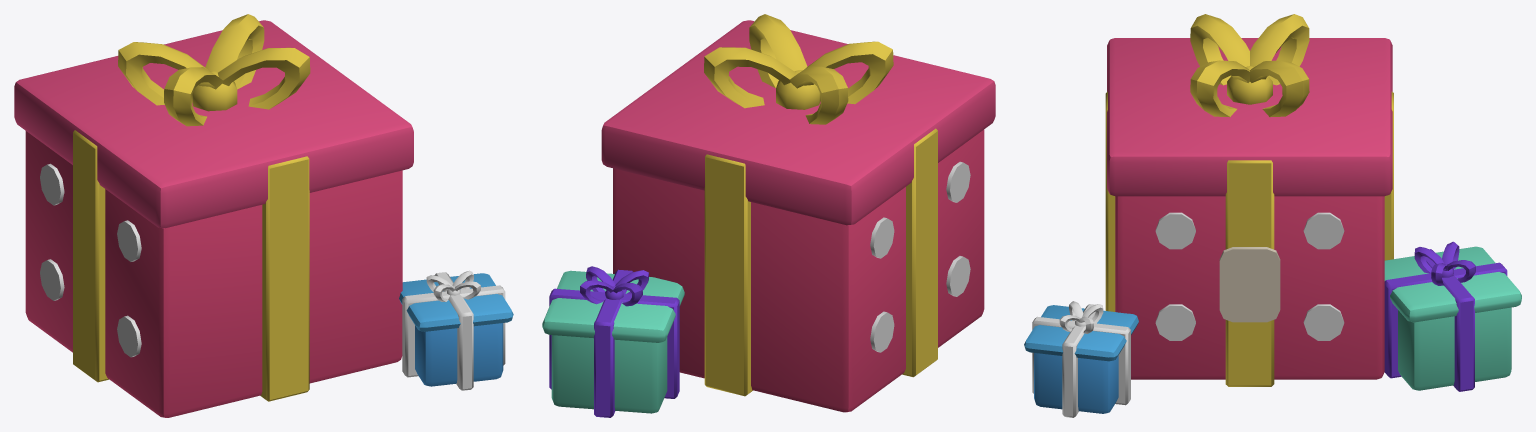
File: stand_daily.glb
3 renders of one model, left to right at view 1: azimuth 30°, elevation 25°; view 2: azimuth 150°, elevation 25°; view 3: azimuth 270°, elevation 25°, orthographic. The views are drawn at different scales.
Visible parts, largest first — view 1: stand_daily; view 2: stand_daily; view 3: stand_daily.
Part boxes in pixels (x1,y1,x2,y2): stand_daily: (14,14,513,417); stand_daily: (542,14,995,417); stand_daily: (1024,14,1521,417).
Size of the model in its own units: 2.75 by 2.34 by 3.7.
